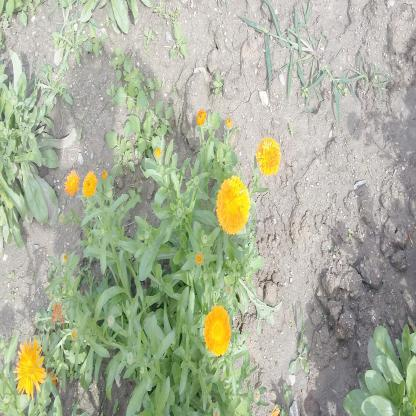marigold: (216, 176, 250, 233), (16, 340, 46, 398), (203, 305, 231, 357), (259, 136, 280, 176), (64, 169, 79, 194), (82, 170, 96, 195)
